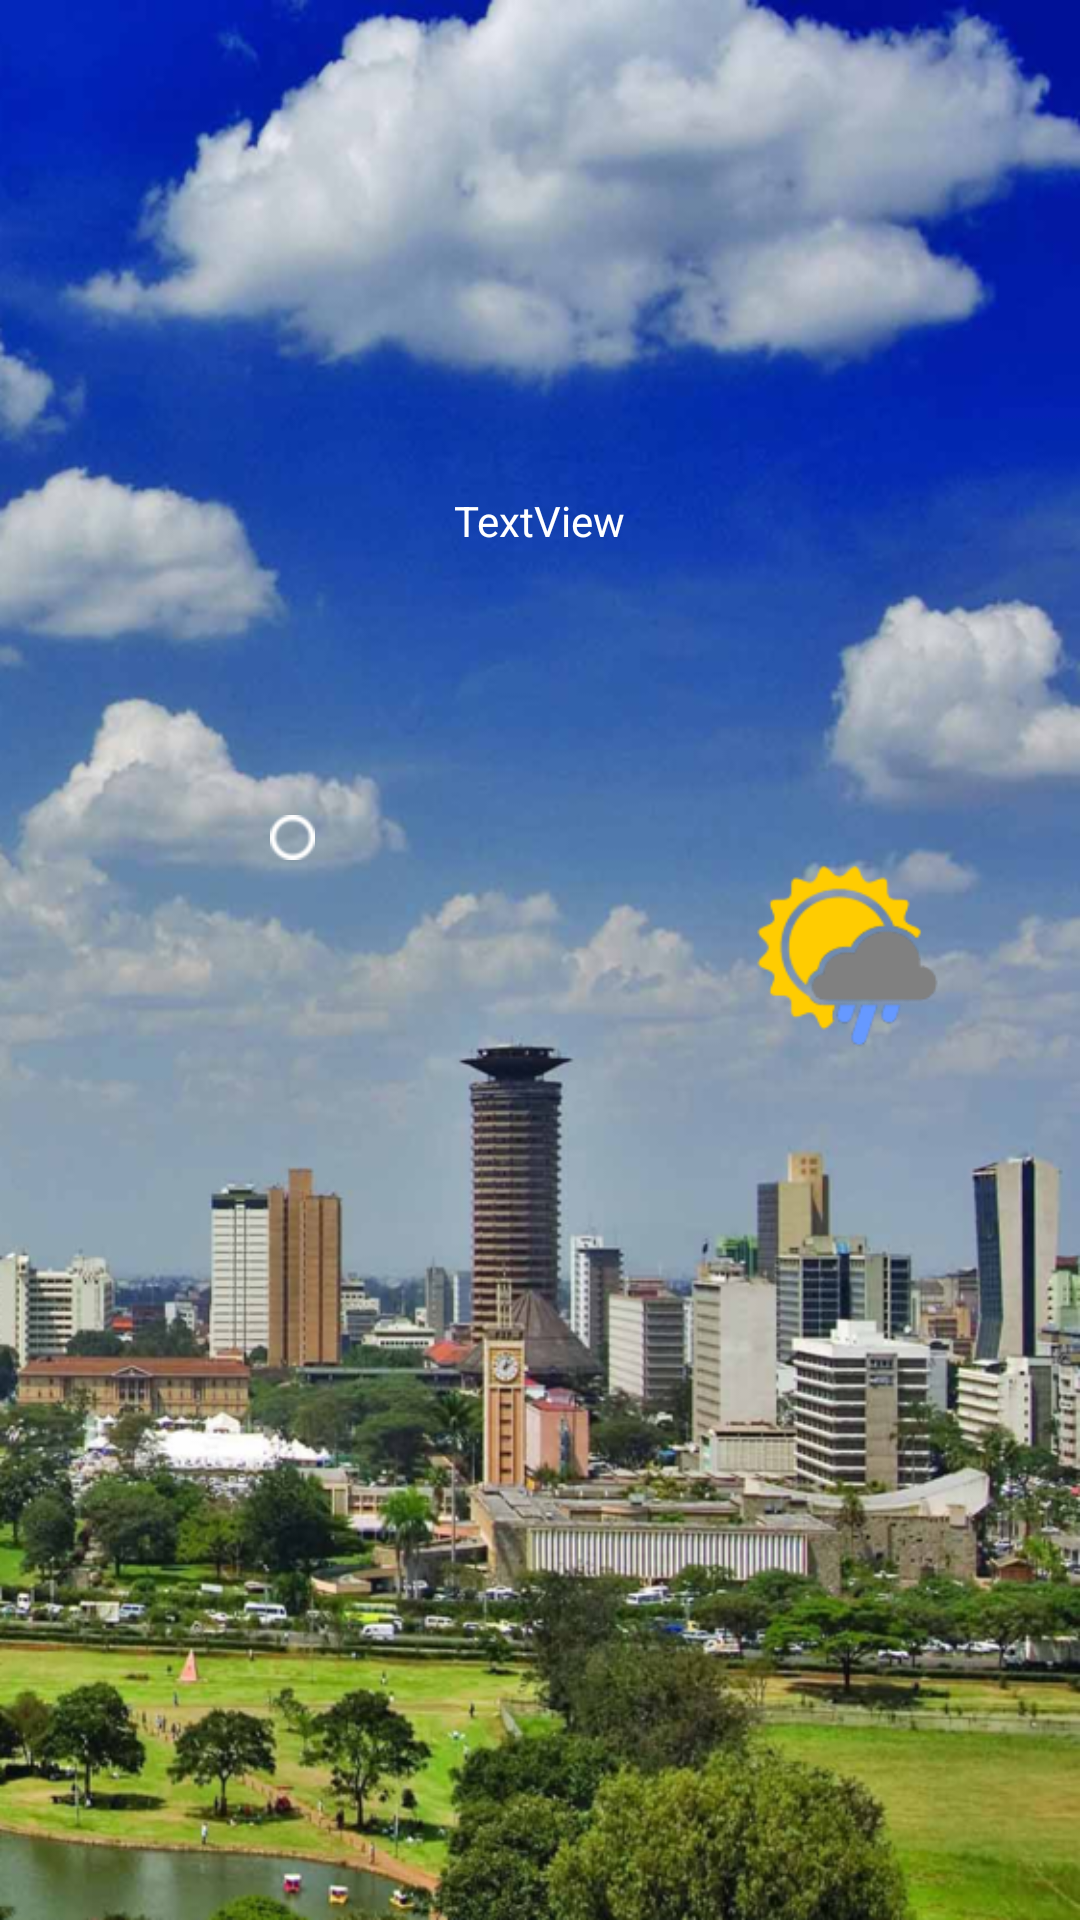

Screen size 1080×1920. Icon name, then its center in pixels as [x,y]:
circleoutline: [292,837]
